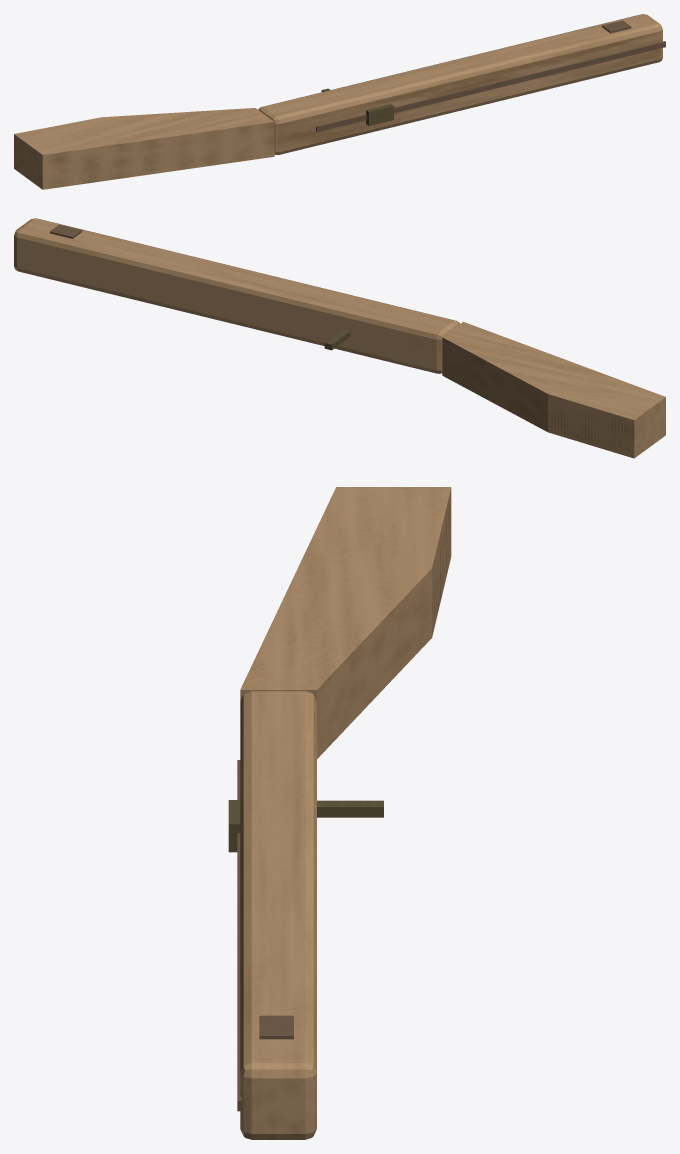
File: FL_CrossbowStock.fbx
3 views of the same model, one above another, from view 1: azimuth 30°, elevation 25°; view 2: azimuth 150°, elevation 25°; view 3: azimuth 270°, elevation 25° (orthographic). The views are drawn at different scales.
Visible parts, largest first — view 1: FL_CrossbowStock; view 2: FL_CrossbowStock; view 3: FL_CrossbowStock.
Boxes of the visible parts, box(x1,y1,x2,y2) form: FL_CrossbowStock: box(14, 14, 665, 189); FL_CrossbowStock: box(14, 218, 665, 458); FL_CrossbowStock: box(228, 487, 451, 1139).
Size of the model in its own units: 0.06 by 0.004 by 0.00967.
